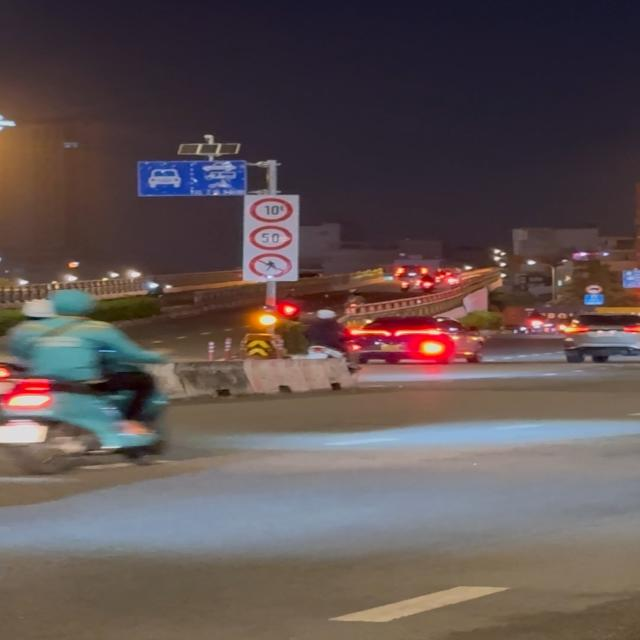Bien bao cam nguoi di bo: (250, 253, 292, 279)
Bien bao toc do toi da cho phep: (248, 226, 294, 251)
